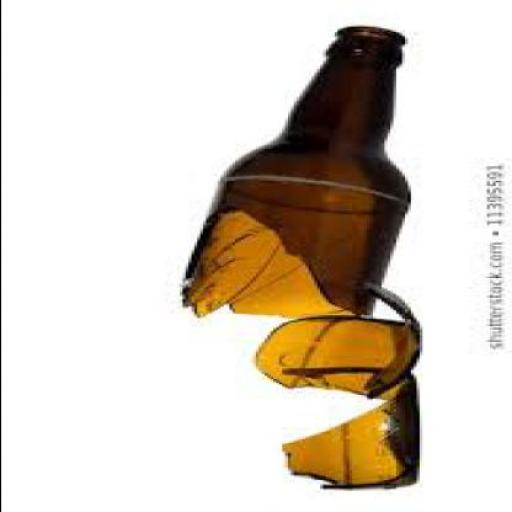glass: (178, 28, 410, 319), (252, 281, 422, 401), (278, 368, 421, 491)
